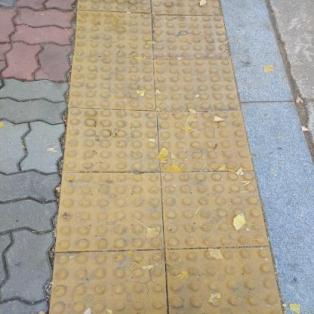Podoctatil: (39, 1, 288, 314)
